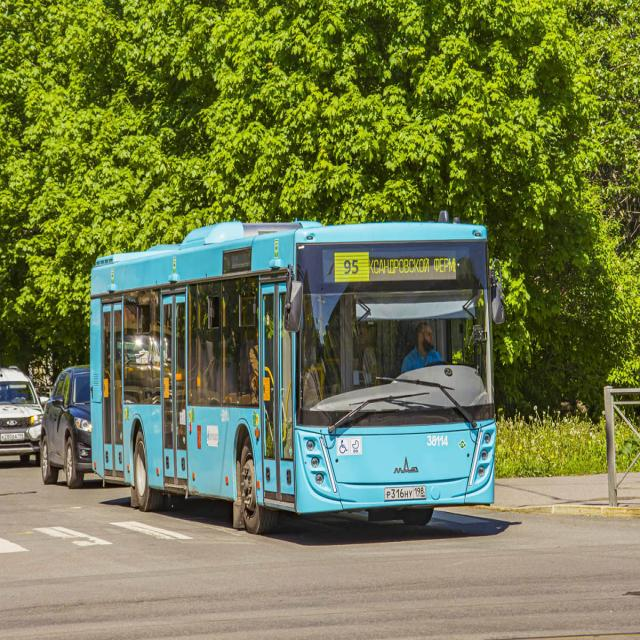number-of-bus: (342, 258, 363, 275)
